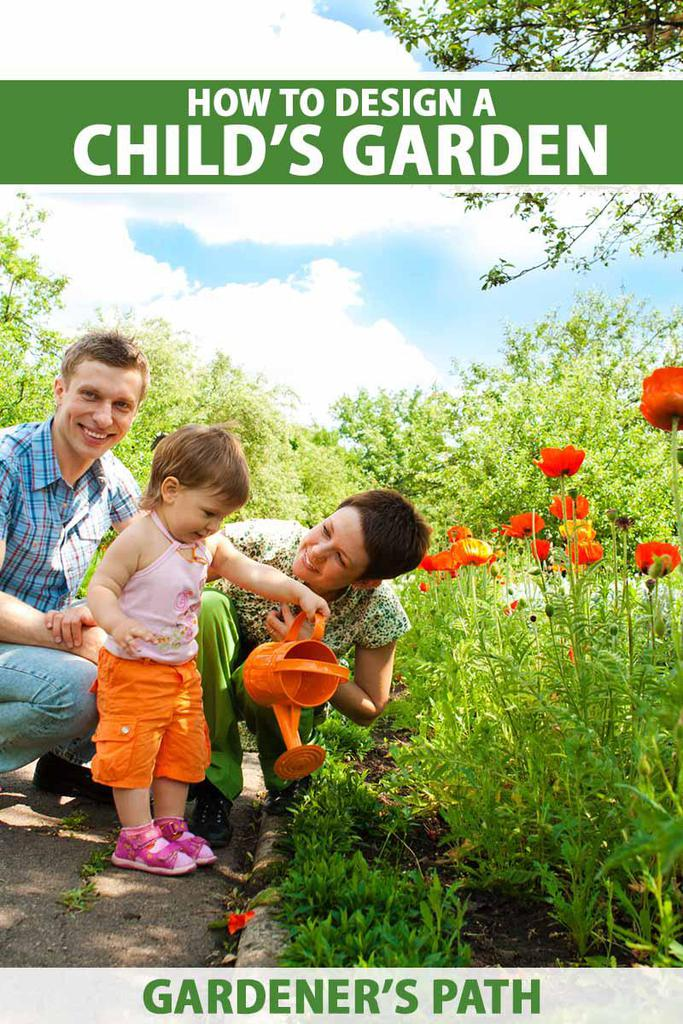child: (91, 423, 255, 871)
